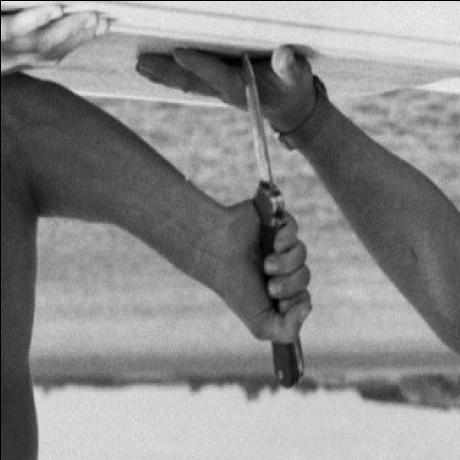1: (0, 71, 326, 460), (134, 50, 460, 358)
weapon: (241, 51, 280, 215)
